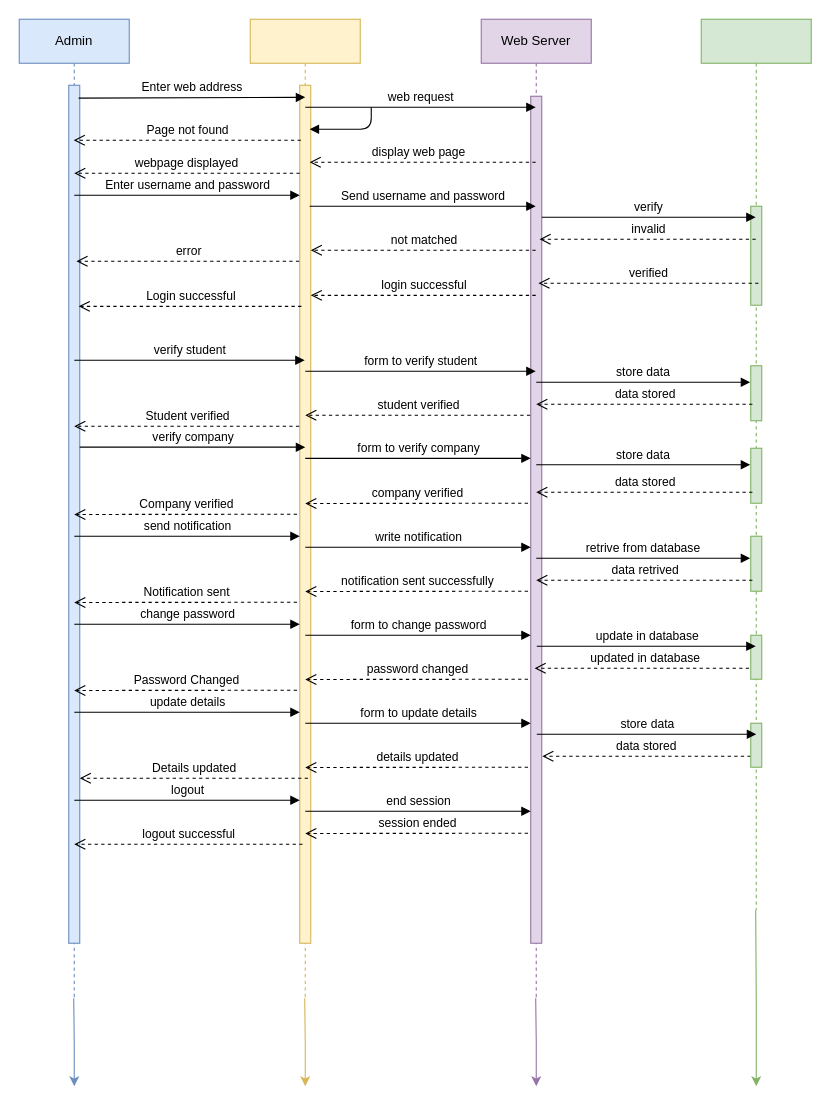
This 831x1114 diagram has some shape labels left out. The box of each missing label's shape, as (x1, y1, x2, y2) in pixels:
Database: (700, 18, 811, 910)
Web Interface: (249, 18, 360, 998)
